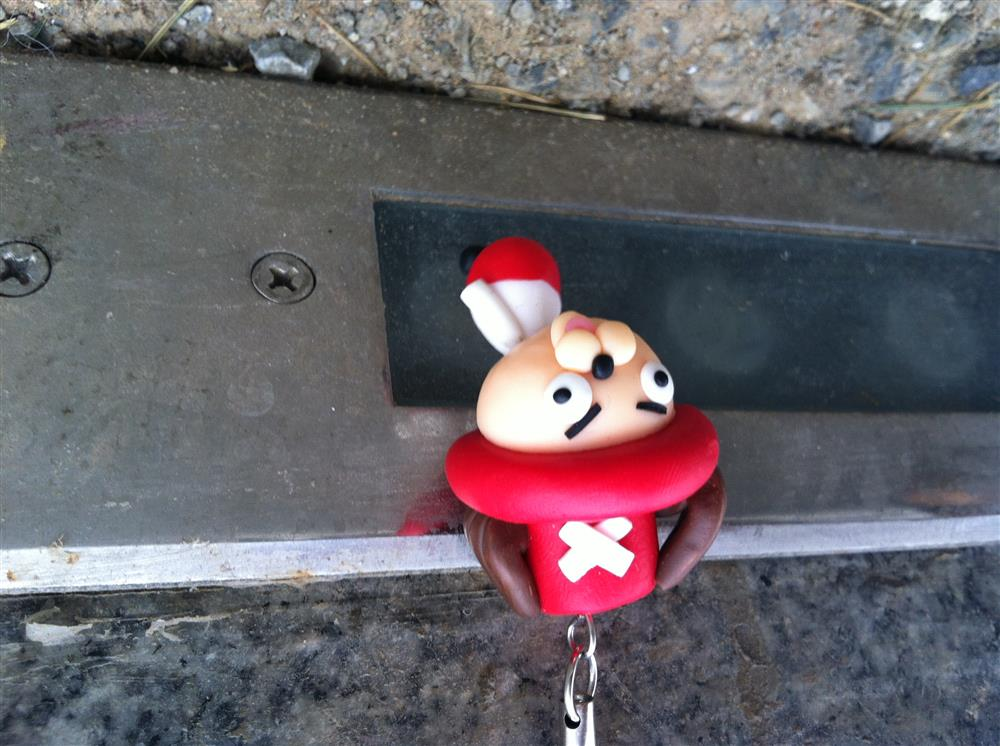Chopper: (444, 236, 733, 621)
